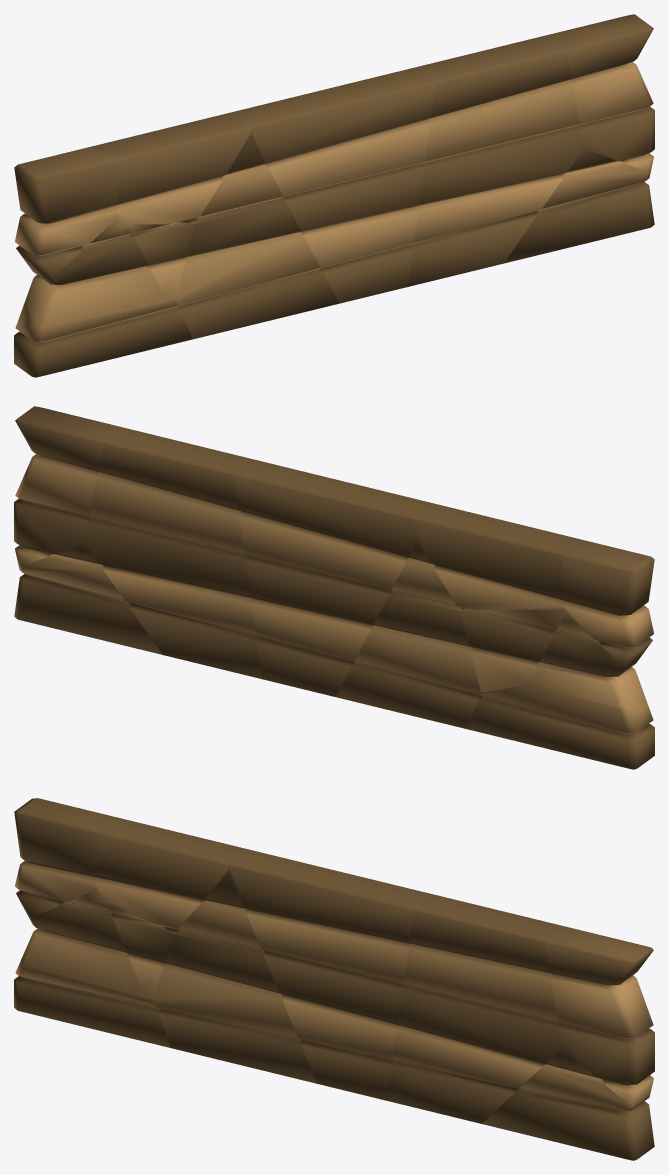
File: Entity_WoodPlank-bkn.FBX
The picture shows the model from 3 angles, top to bottom: view 1: azimuth 30°, elevation 25°; view 2: azimuth 150°, elevation 25°; view 3: azimuth 330°, elevation 25°; orthographic projection.
Visible parts, largest first — view 1: WoodPlank_Part_3, WoodPlank_Part_10, WoodPlank_Part_5, WoodPlank_Part_7, WoodPlank_Part_6, WoodPlank_Part_8, WoodPlank_Part_2, WoodPlank_Part_4, WoodPlank_Part_1, WoodPlank_Part_9; view 2: WoodPlank_Part_3, WoodPlank_Part_10, WoodPlank_Part_5, WoodPlank_Part_7, WoodPlank_Part_6, WoodPlank_Part_4, WoodPlank_Part_8, WoodPlank_Part_2, WoodPlank_Part_9, WoodPlank_Part_1; view 3: WoodPlank_Part_3, WoodPlank_Part_10, WoodPlank_Part_5, WoodPlank_Part_6, WoodPlank_Part_7, WoodPlank_Part_2, WoodPlank_Part_8, WoodPlank_Part_4, WoodPlank_Part_1, WoodPlank_Part_9.
Boxes of the visible parts, x1,y1,x2,y2 form: WoodPlank_Part_3: (408,35,583,286); WoodPlank_Part_10: (235,67,435,303); WoodPlank_Part_5: (175,135,338,339); WoodPlank_Part_7: (88,111,251,224); WoodPlank_Part_6: (546,14,654,172); WoodPlank_Part_8: (14,147,119,278); WoodPlank_Part_2: (504,148,654,263); WoodPlank_Part_4: (14,296,192,377); WoodPlank_Part_1: (24,218,164,327); WoodPlank_Part_9: (128,222,195,298); WoodPlank_Part_3: (84,427,261,678); WoodPlank_Part_10: (234,459,436,696); WoodPlank_Part_5: (336,542,482,728); WoodPlank_Part_7: (414,504,570,609); WoodPlank_Part_6: (14,406,122,566); WoodPlank_Part_4: (466,684,654,769); WoodPlank_Part_8: (562,537,654,665); WoodPlank_Part_2: (14,543,162,654); WoodPlank_Part_9: (460,609,564,692); WoodPlank_Part_1: (528,613,647,708); WoodPlank_Part_3: (386,894,564,1123); WoodPlank_Part_10: (229,850,433,1100); WoodPlank_Part_5: (153,872,316,1083); WoodPlank_Part_6: (545,926,654,1105); WoodPlank_Part_7: (95,815,252,933); WoodPlank_Part_2: (482,1048,654,1160); WoodPlank_Part_8: (14,798,106,917); WoodPlank_Part_4: (14,961,170,1047); WoodPlank_Part_1: (21,890,142,991); WoodPlank_Part_9: (106,901,173,998).
Size of the model in its own units: 81.52 by 25 by 5.
